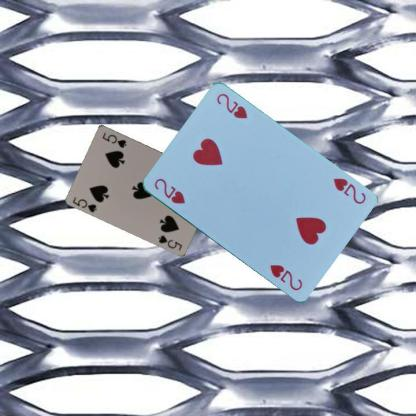2h: (330, 175, 367, 206), (151, 176, 186, 206)
5s: (70, 194, 98, 214)
